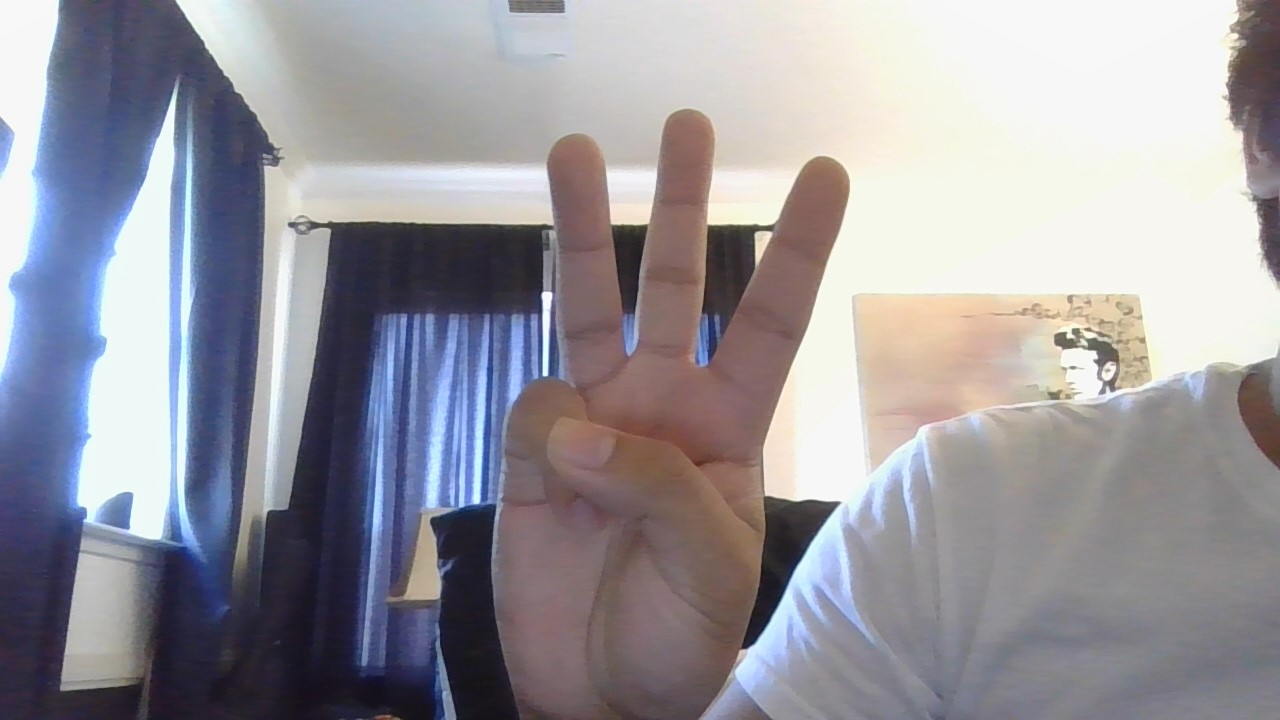w: (477, 102, 859, 720)
